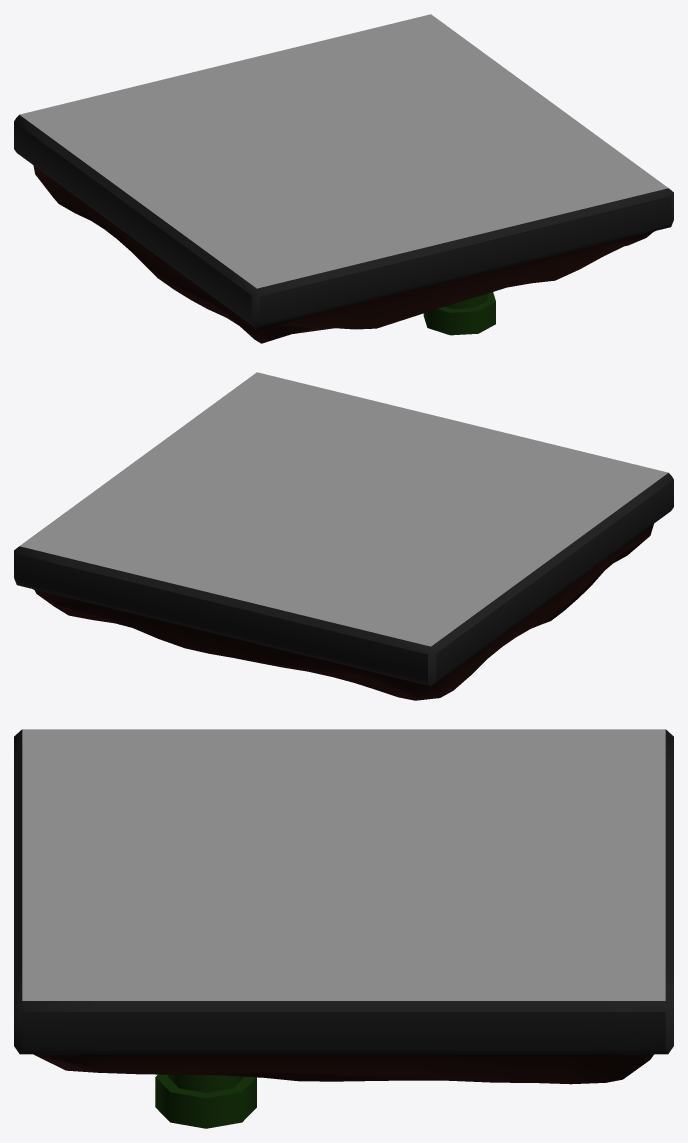
File: MET_PlatformeTuyau_Petit_Pierre_01_LOD0.fbx
3 views of the same model, one above another, from view 1: azimuth 30°, elevation 25°; view 2: azimuth 150°, elevation 25°; view 3: azimuth 270°, elevation 25° (orthographic). The views are drawn at different scales.
Parts seen in each view (by area): view 1: MET_PlatformeTuyau_Petit_Pierre_01_LOD0; view 2: MET_PlatformeTuyau_Petit_Pierre_01_LOD0; view 3: MET_PlatformeTuyau_Petit_Pierre_01_LOD0.
Boxes of the visible parts, box(x1,y1,x2,y2) form: MET_PlatformeTuyau_Petit_Pierre_01_LOD0: box(14, 14, 673, 343); MET_PlatformeTuyau_Petit_Pierre_01_LOD0: box(14, 372, 673, 700); MET_PlatformeTuyau_Petit_Pierre_01_LOD0: box(14, 729, 673, 1128).
Size of the model in its own units: 400 by 133 by 400.
